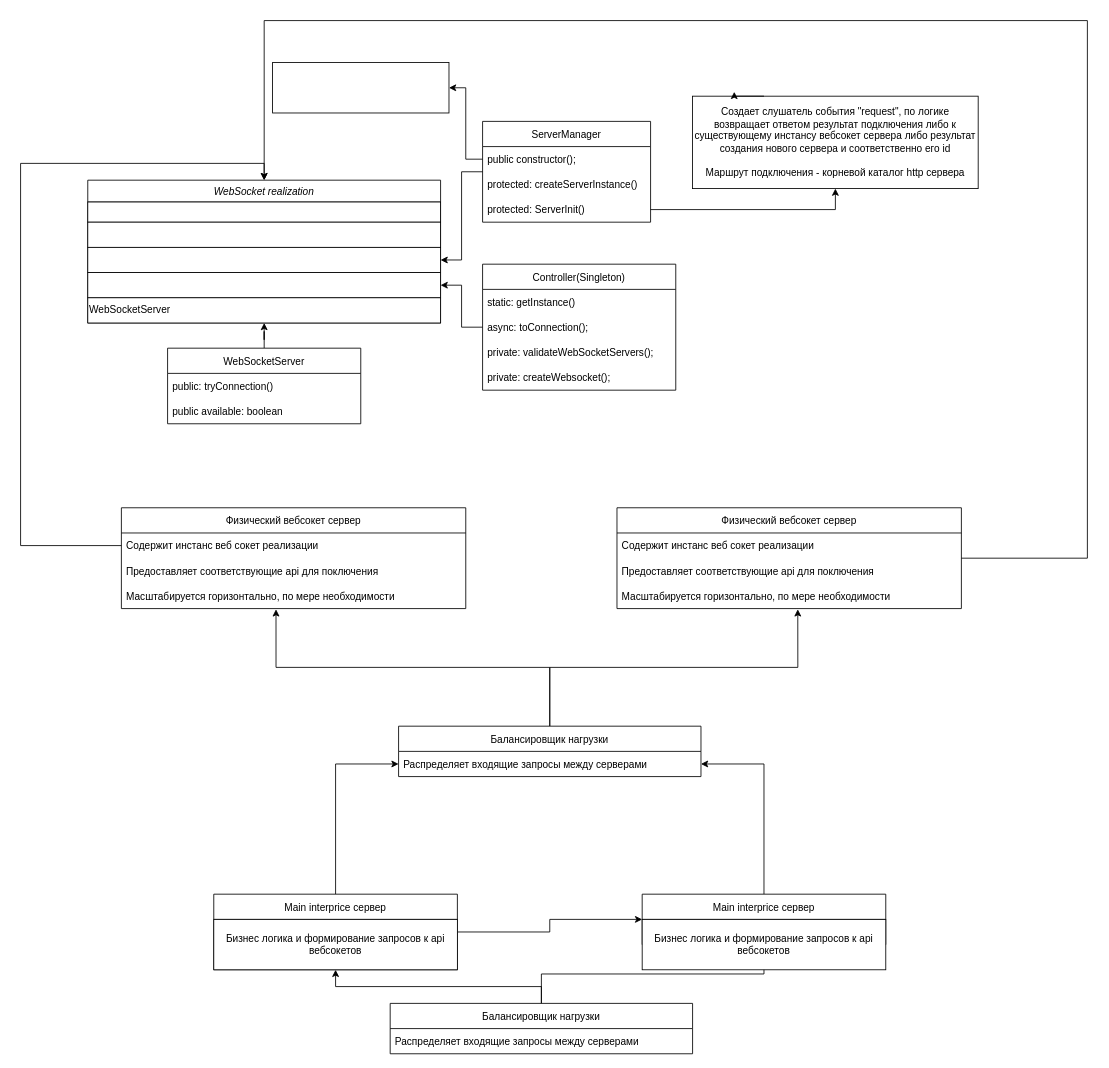
Some shapes in this 1109 by 1068 pixel diagram are drawn without their labels. Each missing label, with the centre of its shape:
"Controller.ts" belongs at (264,285).
"ServerManager.ts" belongs at (264,260).
"Конструктор инкапсулирует вызов protected методов" belongs at (360,87).
"Состоит из:" belongs at (264,211).
"Точка входа: index.ts" belongs at (264,234).
